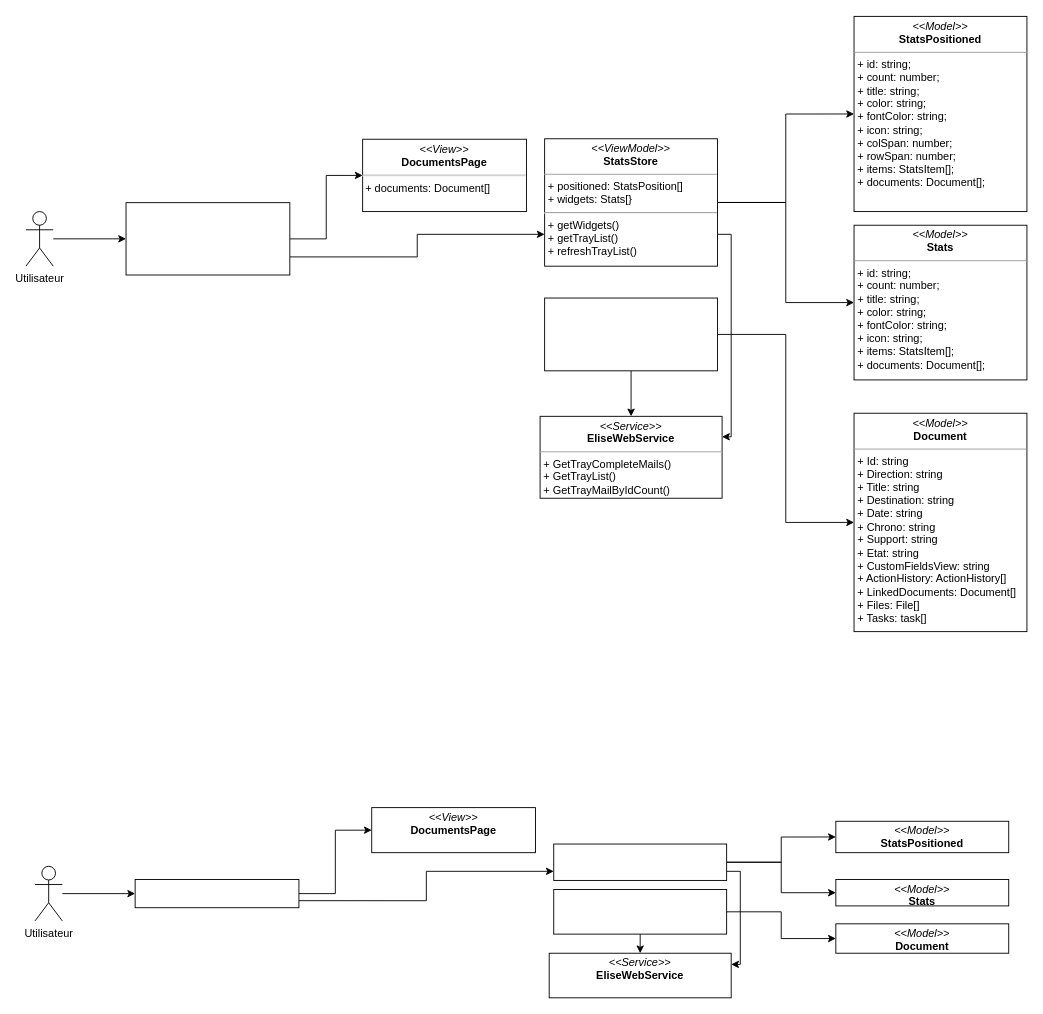
Image size: 1043x1014. Some labels were removed from this diagram. Here are the shapes that lost their labels. From the top down, the box of each, then its label:
(125, 202, 290, 275): <<View>> HomePage + goToPage()
(544, 297, 718, 371): <<ViewModel>> DocumentsStore + getDocumentsByTray()
(553, 843, 727, 880): <<ViewModel>> StatsStore
(134, 879, 299, 908): <<View>> HomePage
(553, 889, 727, 934): <<ViewModel>> DocumentsStore
